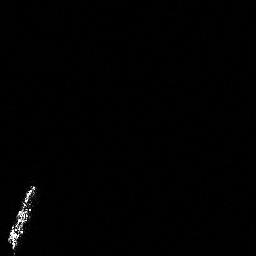ship: (3, 183, 38, 251)
